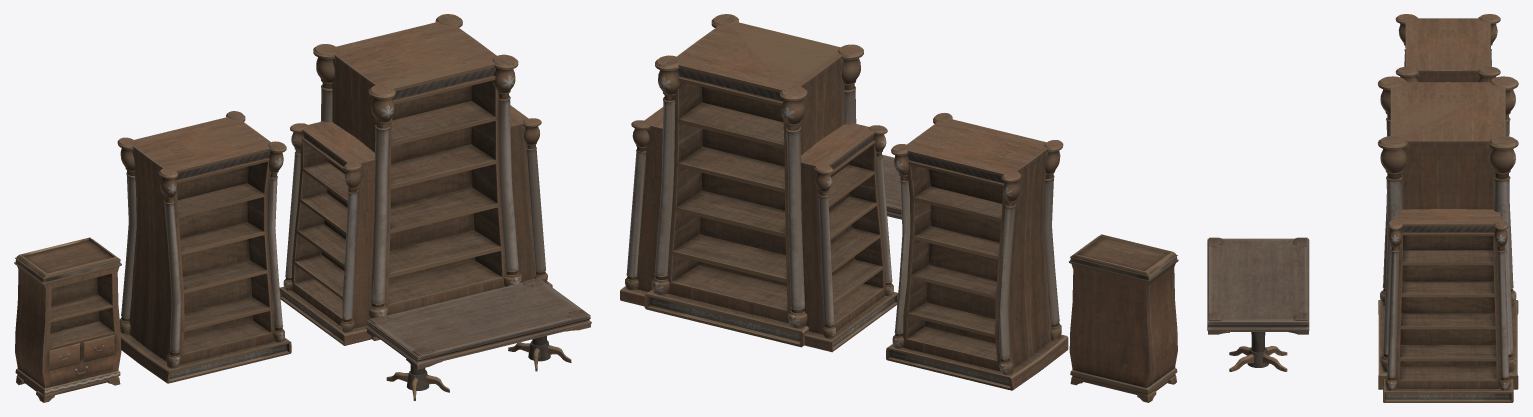
Rendered from Furniture_B.fbx.
3 renders of one model, left to right at view 1: azimuth 30°, elevation 25°; view 2: azimuth 150°, elevation 25°; view 3: azimuth 270°, elevation 25°, orthographic. The views are drawn at different scales.
Parts seen in each view (by area): view 1: Bookshelf_2A2, Bookshelf_2A2.001, Bookshelf_2A1, Bookshelf_2A1.001, Straight_Table_1A1.001, Bookshelf_2B1.001, Bookshelf_2B1, Straight_Table_1A1; view 2: Bookshelf_2A2, Bookshelf_2A2.001, Bookshelf_2A1, Bookshelf_2A1.001, Bookshelf_2B1, Bookshelf_2B1.001, Straight_Table_1A1.001; view 3: Bookshelf_2A2, Bookshelf_2A2.001, Straight_Table_1A1.001, Bookshelf_2A1, Straight_Table_1A1, Bookshelf_2A1.001.
Boxes of the visible parts, box(x1,y1,x2,y2) form: Bookshelf_2A2: box(279, 14, 552, 345); Bookshelf_2A2.001: box(279, 14, 551, 345); Bookshelf_2A1: box(117, 111, 291, 383); Bookshelf_2A1.001: box(118, 111, 291, 383); Straight_Table_1A1.001: box(367, 280, 591, 400); Bookshelf_2B1.001: box(14, 237, 121, 402); Bookshelf_2B1: box(14, 237, 121, 402); Straight_Table_1A1: box(366, 277, 591, 400); Bookshelf_2A2: box(620, 14, 897, 352); Bookshelf_2A2.001: box(623, 14, 897, 351); Bookshelf_2A1: box(886, 113, 1068, 390); Bookshelf_2A1.001: box(886, 113, 1065, 390); Bookshelf_2B1: box(1069, 234, 1178, 402); Bookshelf_2B1.001: box(1069, 234, 1178, 402); Straight_Table_1A1.001: box(882, 155, 901, 218); Bookshelf_2A2: box(1377, 76, 1518, 402); Bookshelf_2A2.001: box(1378, 76, 1518, 402); Straight_Table_1A1.001: box(1207, 238, 1309, 371); Bookshelf_2A1: box(1395, 14, 1500, 82); Straight_Table_1A1: box(1207, 237, 1309, 371); Bookshelf_2A1.001: box(1396, 14, 1499, 81).
Bounding box in the file's own units: 929 × 435 × 507.
